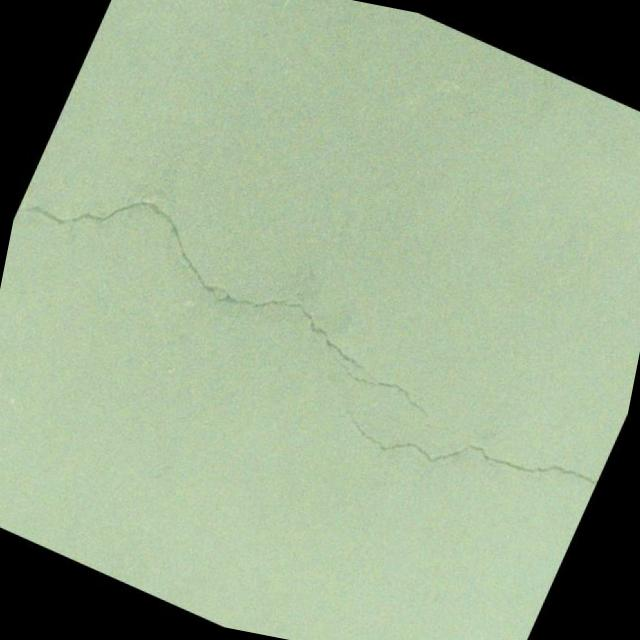crack: (0, 151, 506, 440), (319, 370, 610, 539)
